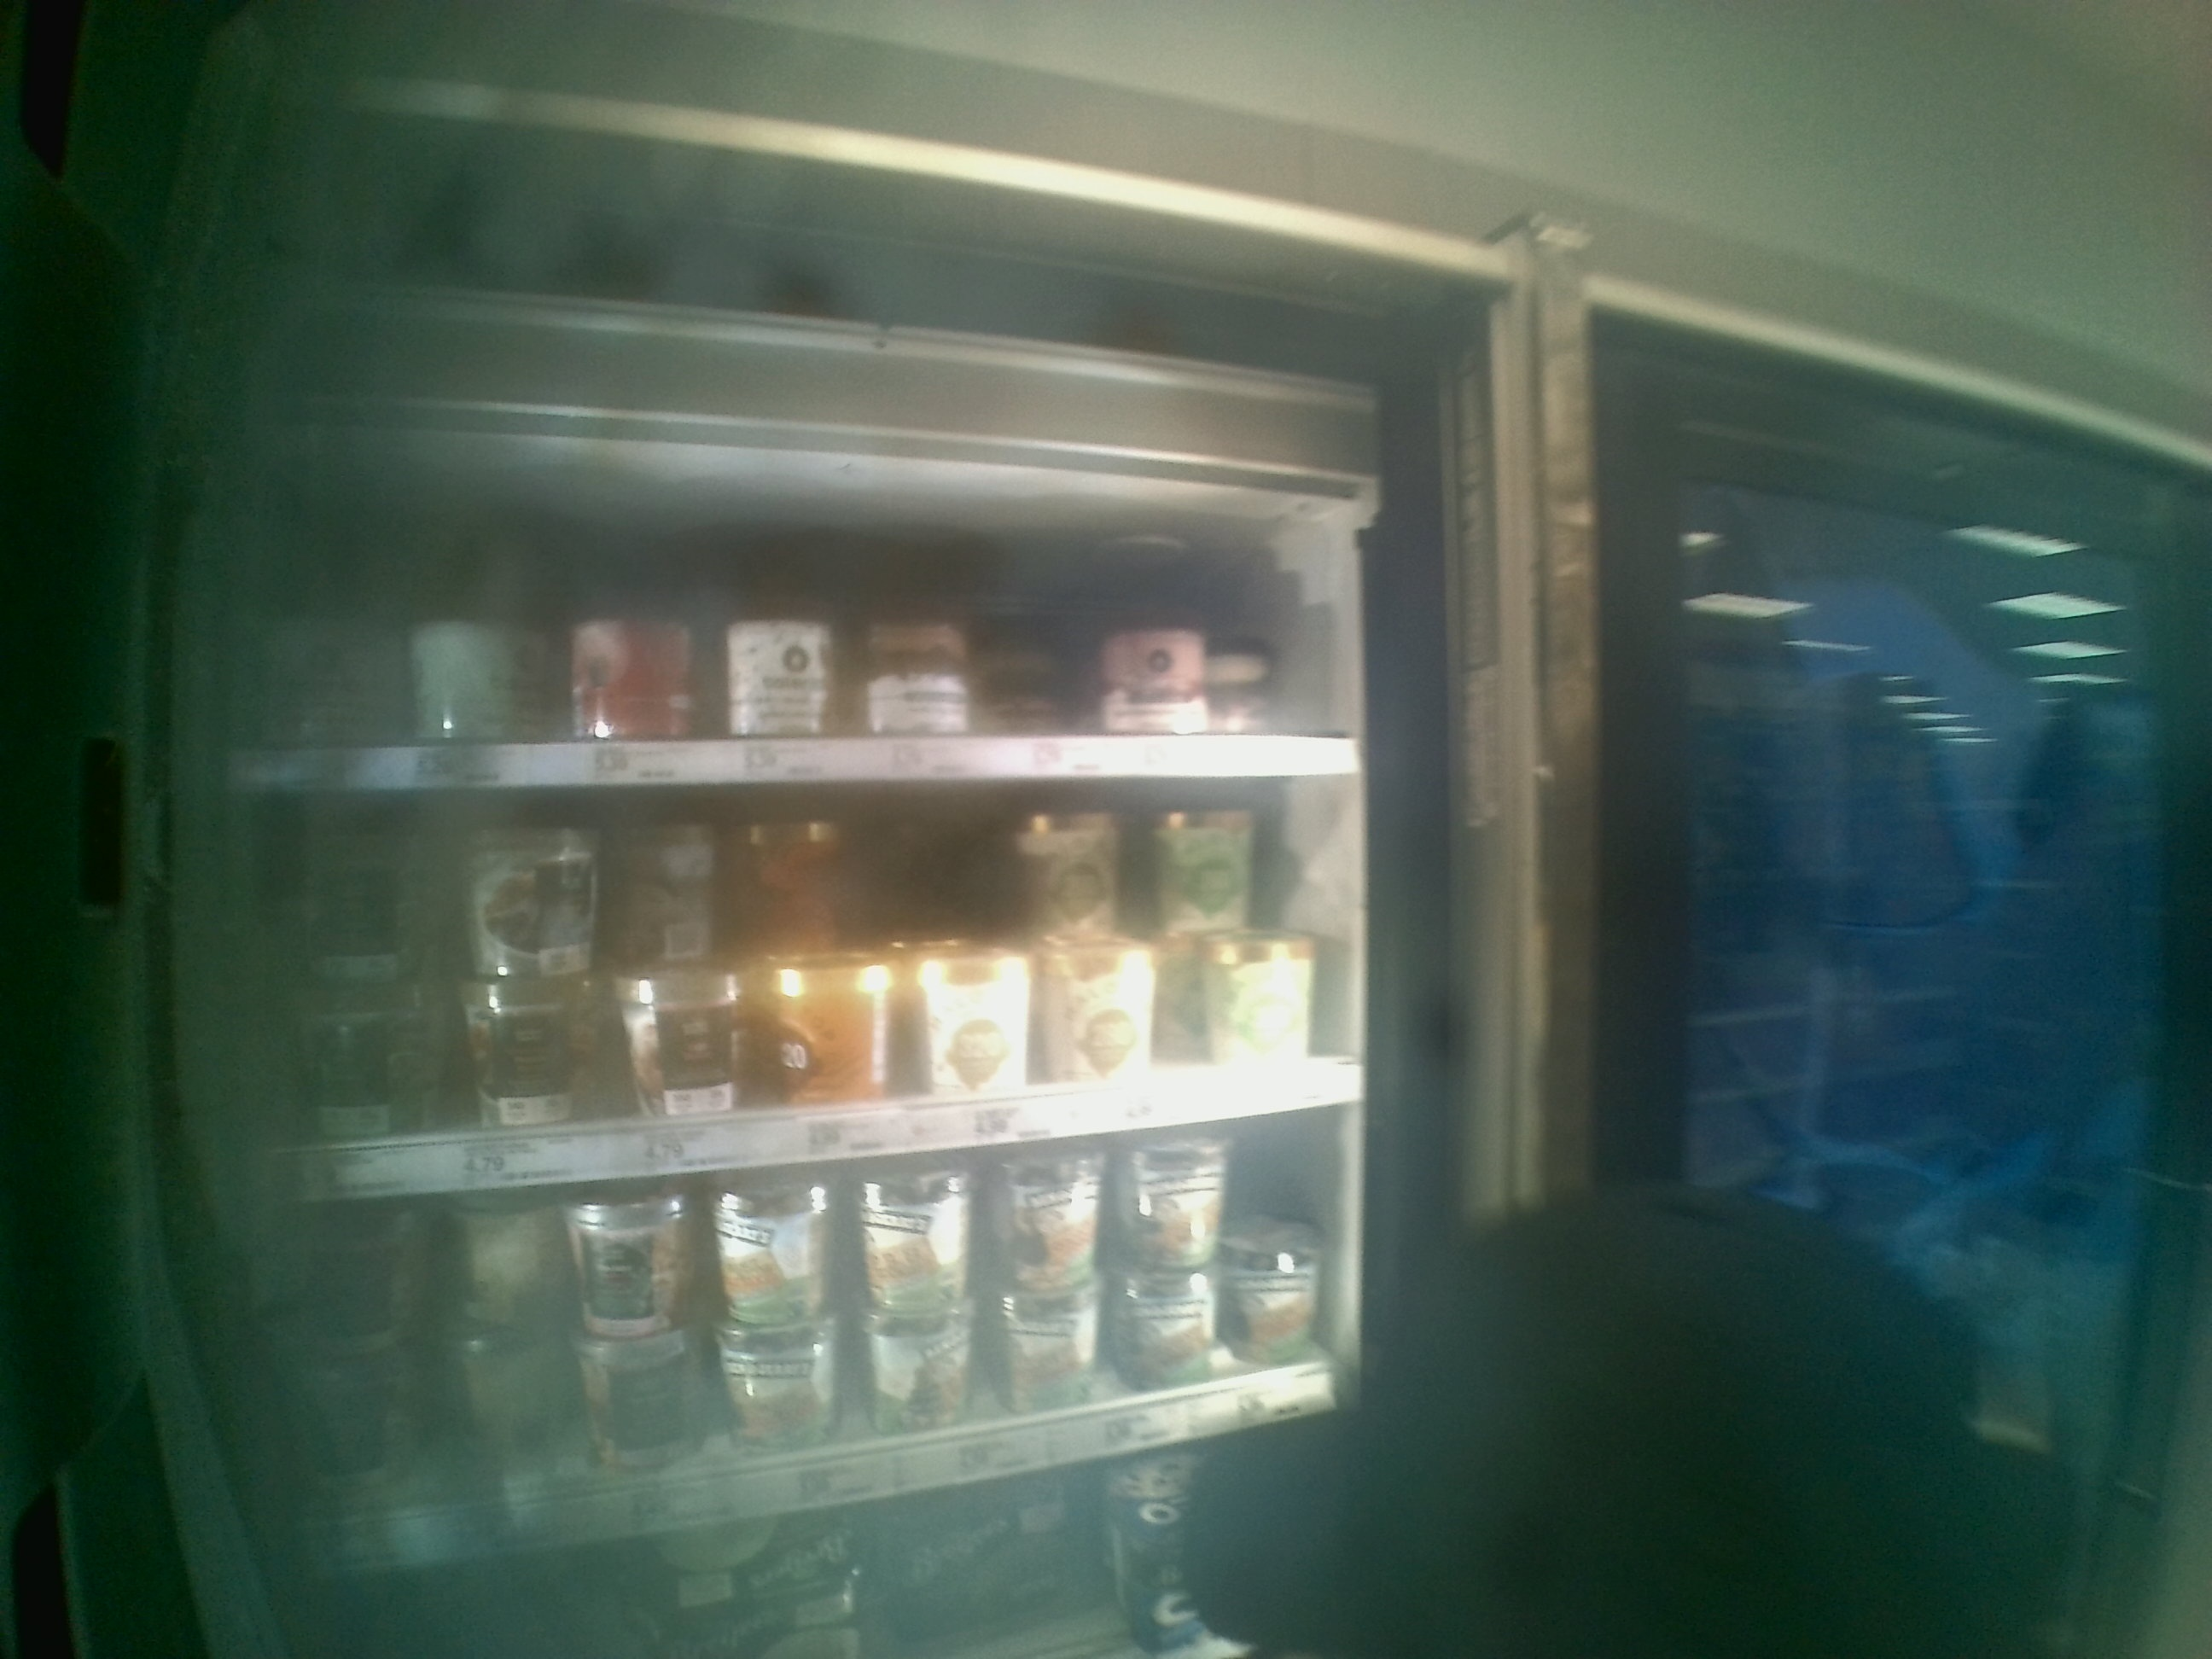shelf: (218, 772, 1371, 1202), (223, 427, 1367, 774)
